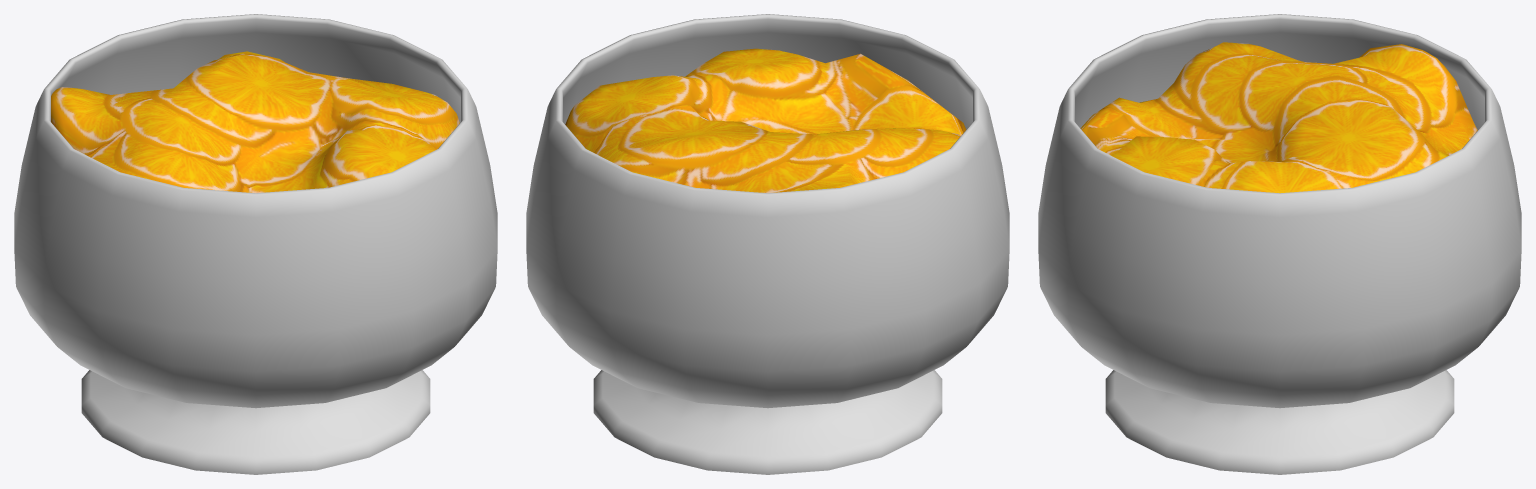
File: BuffetFruits02_1.FBX
3 renders of one model, left to right at view 1: azimuth 30°, elevation 25°; view 2: azimuth 150°, elevation 25°; view 3: azimuth 270°, elevation 25°, orthographic.
Parts seen in each view (by area): view 1: BuffetFruits02_1; view 2: BuffetFruits02_1; view 3: BuffetFruits02_1.
Part boxes in pixels (x1,y1,x2,y2): BuffetFruits02_1: (14, 14, 497, 474); BuffetFruits02_1: (526, 14, 1009, 474); BuffetFruits02_1: (1038, 14, 1521, 474).
Size of what is drawn, in the model's own units: 0.3238 by 0.2156 by 0.3189.
